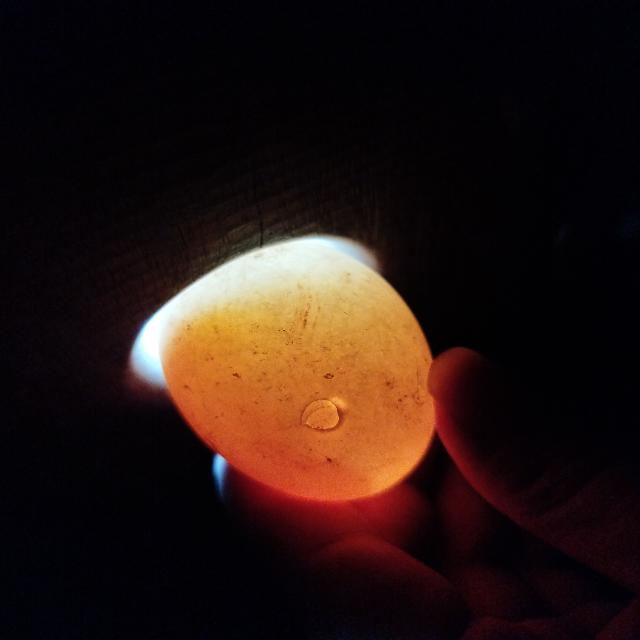Gema Quebrada: (166, 379, 375, 501)
Rachadura: (301, 399, 339, 429)
